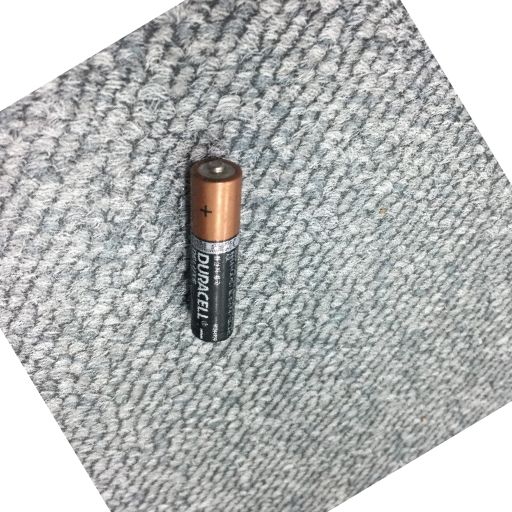Battery_0: (174, 144, 252, 350)
